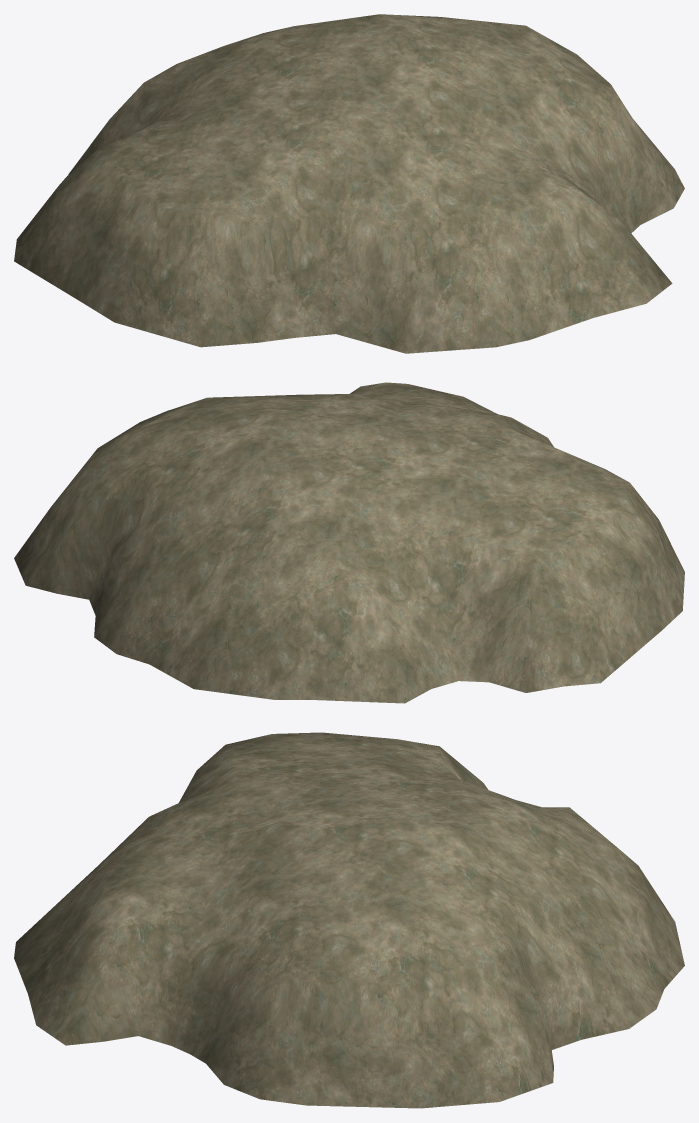
Rendered from EKH_JAIL_PS_JA_CAVE_ROOF_029287.fbx.
3 renders of one model, top to bottom at view 1: azimuth 30°, elevation 25°; view 2: azimuth 150°, elevation 25°; view 3: azimuth 270°, elevation 25°, orthographic. The views are drawn at different scales.
Visible parts, largest first — view 1: EKH_JAIL_PS_JA_CAVE_ROOF_029287; view 2: EKH_JAIL_PS_JA_CAVE_ROOF_029287; view 3: EKH_JAIL_PS_JA_CAVE_ROOF_029287.
Boxes of the visible parts, bbox=[...] form: EKH_JAIL_PS_JA_CAVE_ROOF_029287: bbox=[14, 14, 684, 353]; EKH_JAIL_PS_JA_CAVE_ROOF_029287: bbox=[14, 382, 684, 703]; EKH_JAIL_PS_JA_CAVE_ROOF_029287: bbox=[14, 732, 684, 1108].
Bounding box in the file's own units: 121572 × 32025 × 115125.
Materials: 1 (1 with a texture image).
